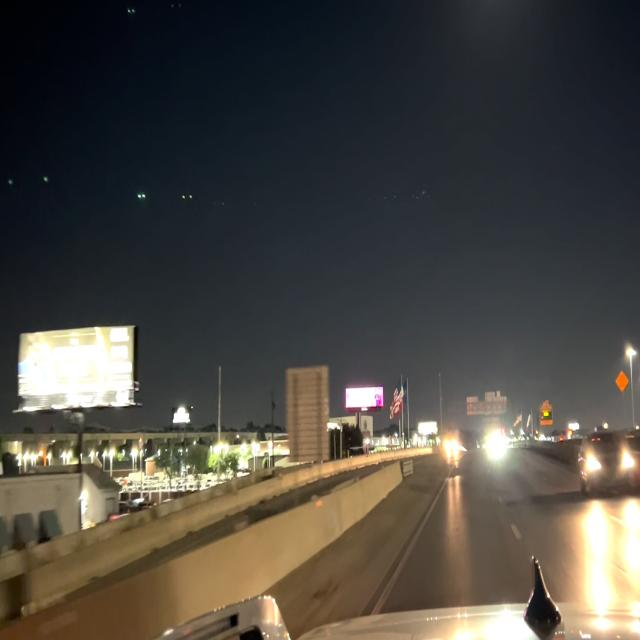back-of-sign: (283, 364, 332, 466), (465, 389, 509, 421)
